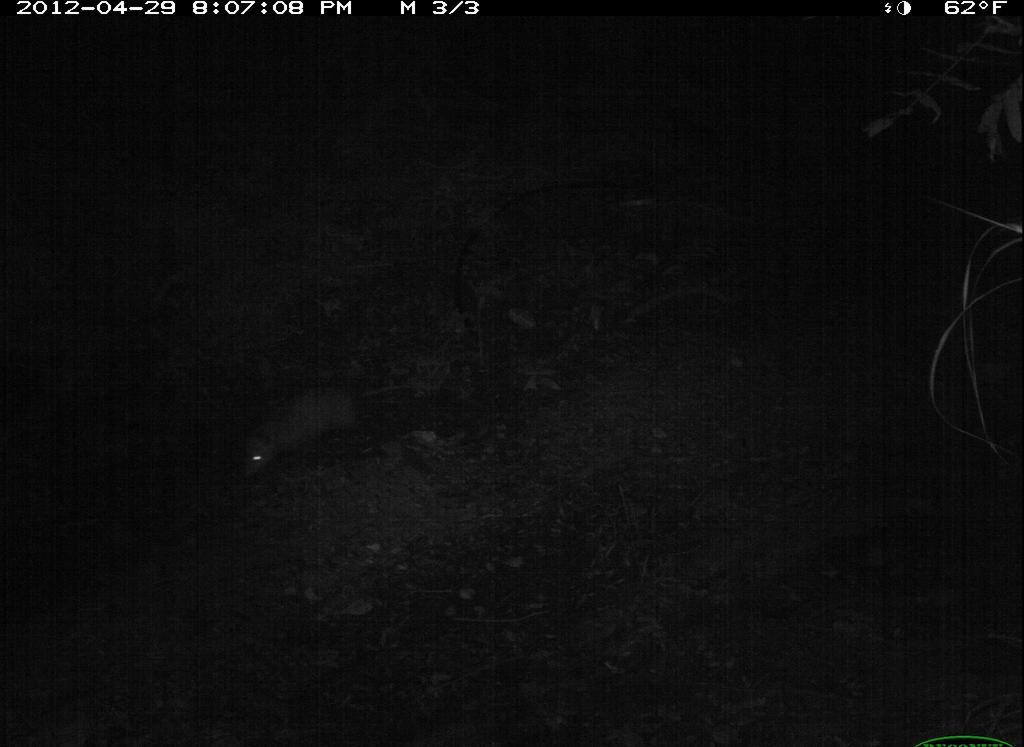opossum: (226, 363, 434, 495)
